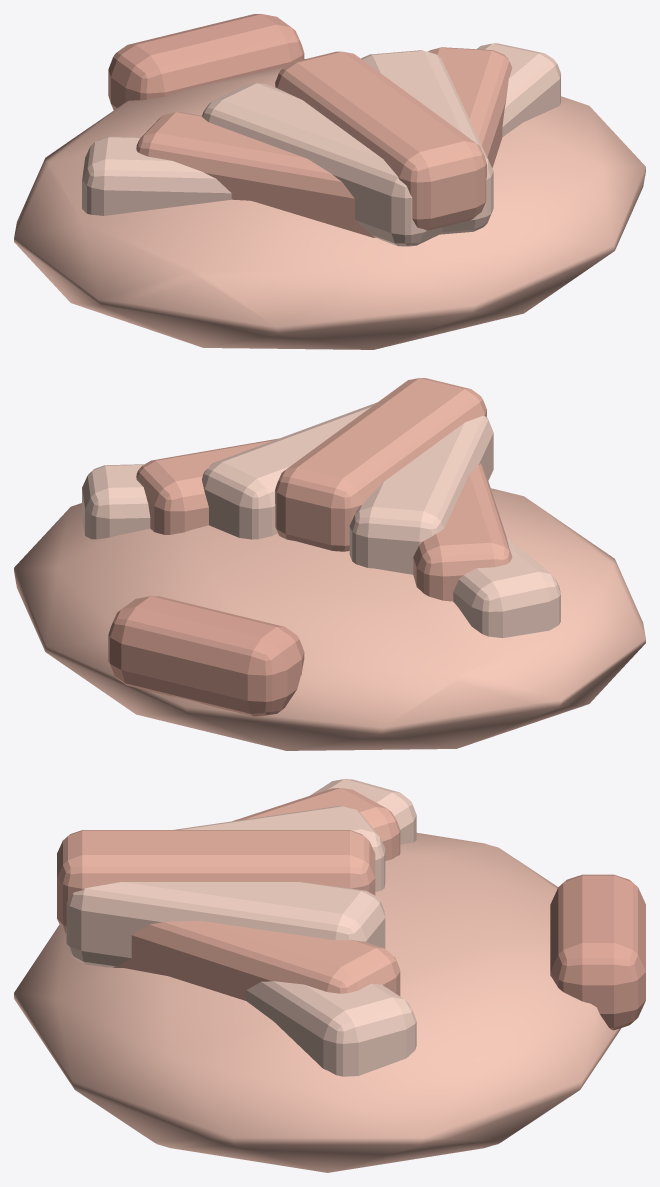
The model's file is keepsake_shell.glb.
3 renders of one model, top to bottom at view 1: azimuth 30°, elevation 25°; view 2: azimuth 150°, elevation 25°; view 3: azimuth 270°, elevation 25°, orthographic. The views are drawn at different scales.
Parts seen in each view (by area): view 1: body, rib.003, rib.002, rib.001, hinge, rib, rib.004, rib.005, rib.006; view 2: body, hinge, rib.003, rib.002, rib.004, rib.001, rib, rib.005, rib.006; view 3: body, rib.003, rib.004, rib.005, hinge, rib.006, rib.002, rib.001, rib.
Part boxes in pixels (x1=…): body: x1=14, y1=59, x2=645, y2=349; rib.003: x1=275, y1=51, x2=486, y2=230; rib.002: x1=202, y1=83, x2=443, y2=246; rib.001: x1=136, y1=112, x2=376, y2=237; hinge: x1=108, y1=14, x2=304, y2=110; rib: x1=82, y1=136, x2=231, y2=215; rib.004: x1=361, y1=50, x2=493, y2=234; rib.005: x1=428, y1=47, x2=512, y2=167; rib.006: x1=477, y1=43, x2=560, y2=136; body: x1=14, y1=488, x2=645, y2=750; hinge: x1=108, y1=596, x2=304, y2=716; rib.003: x1=275, y1=378, x2=486, y2=551; rib.002: x1=349, y1=415, x2=493, y2=574; rib.004: x1=202, y1=402, x2=376, y2=539; rib.001: x1=413, y1=464, x2=512, y2=601; rib: x1=453, y1=537, x2=560, y2=637; rib.005: x1=136, y1=438, x2=277, y2=534; rib.006: x1=82, y1=464, x2=150, y2=539; body: x1=14, y1=833, x2=621, y2=1172; rib.003: x1=57, y1=830, x2=375, y2=933; rib.004: x1=65, y1=882, x2=385, y2=967; rib.005: x1=113, y1=920, x2=400, y2=1000; hinge: x1=550, y1=874, x2=645, y2=1030; rib.006: x1=246, y1=981, x2=416, y2=1076; rib.002: x1=174, y1=806, x2=385, y2=891; rib.001: x1=232, y1=788, x2=400, y2=860; rib: x1=310, y1=779, x2=416, y2=844.
Size of the model in its own units: 0.2173 by 0.083 by 0.1985.
